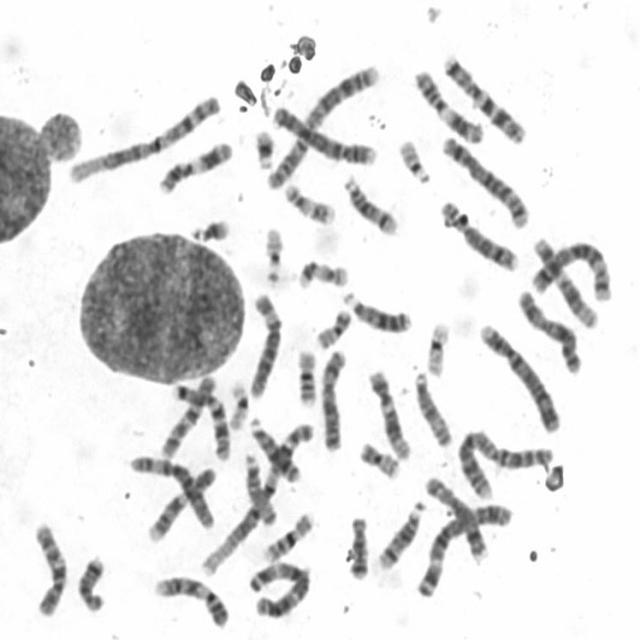A1: (197, 415, 319, 579), (62, 86, 224, 186)
A2: (261, 57, 382, 191), (452, 420, 557, 501)
A3: (412, 496, 516, 599), (245, 554, 314, 620)
B4: (475, 315, 564, 434), (268, 98, 381, 166)
B5: (437, 128, 532, 230), (528, 232, 615, 302)
C10: (156, 367, 220, 460), (27, 514, 71, 619)
C11: (409, 61, 488, 145), (152, 133, 236, 196)
C12: (528, 229, 602, 330), (364, 363, 414, 462)
C6: (125, 447, 217, 531), (243, 286, 286, 400)
C7: (437, 47, 531, 145), (167, 375, 233, 463)
C8: (435, 193, 522, 273), (420, 468, 491, 564)
C9: (143, 459, 220, 544), (147, 568, 230, 630)
D13: (244, 410, 303, 484), (339, 284, 415, 336)
D14: (339, 168, 401, 236), (373, 495, 428, 571)
D15: (410, 365, 456, 449), (239, 446, 280, 527)
E16: (258, 505, 316, 564), (291, 342, 320, 408)
E17: (280, 176, 339, 226), (294, 253, 352, 290)
E18: (73, 548, 109, 614), (344, 509, 372, 582)
F19: (422, 314, 454, 378), (224, 373, 252, 432)
F20: (354, 434, 404, 480), (312, 302, 354, 351)
G21: (186, 210, 233, 243), (250, 122, 278, 171)
G22: (394, 131, 434, 185), (259, 220, 287, 286)
X: (514, 283, 586, 376), (316, 341, 350, 453)
Y: (230, 73, 258, 107)
